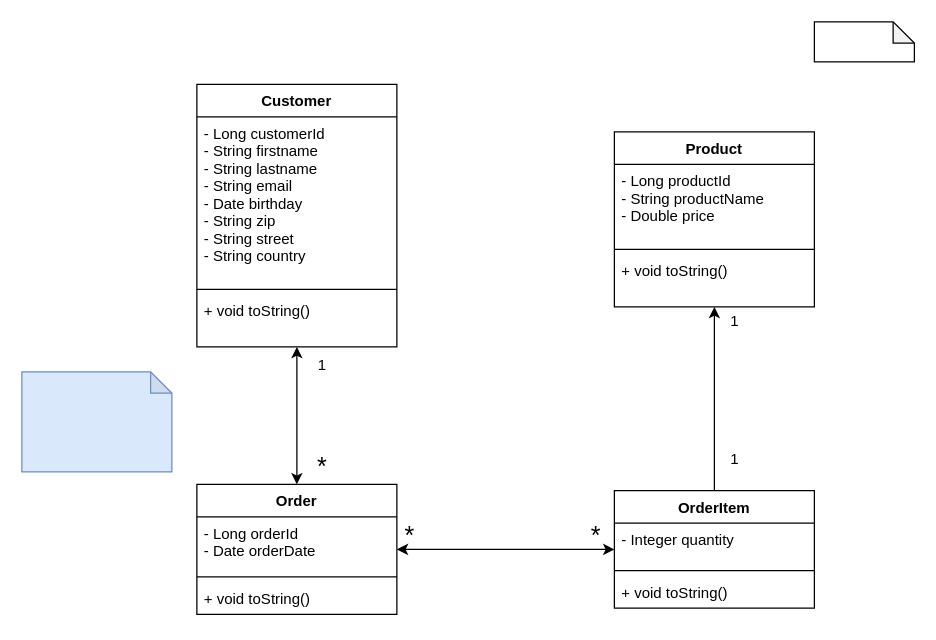
The diagram is 936 pixels wide and 640 high, and some of its shapes have lost their labels. The centre of each missing label's shape, as x and y in pixels:
CD: (863,41)
Getter und Setter werden weggelassen: (96,421)
